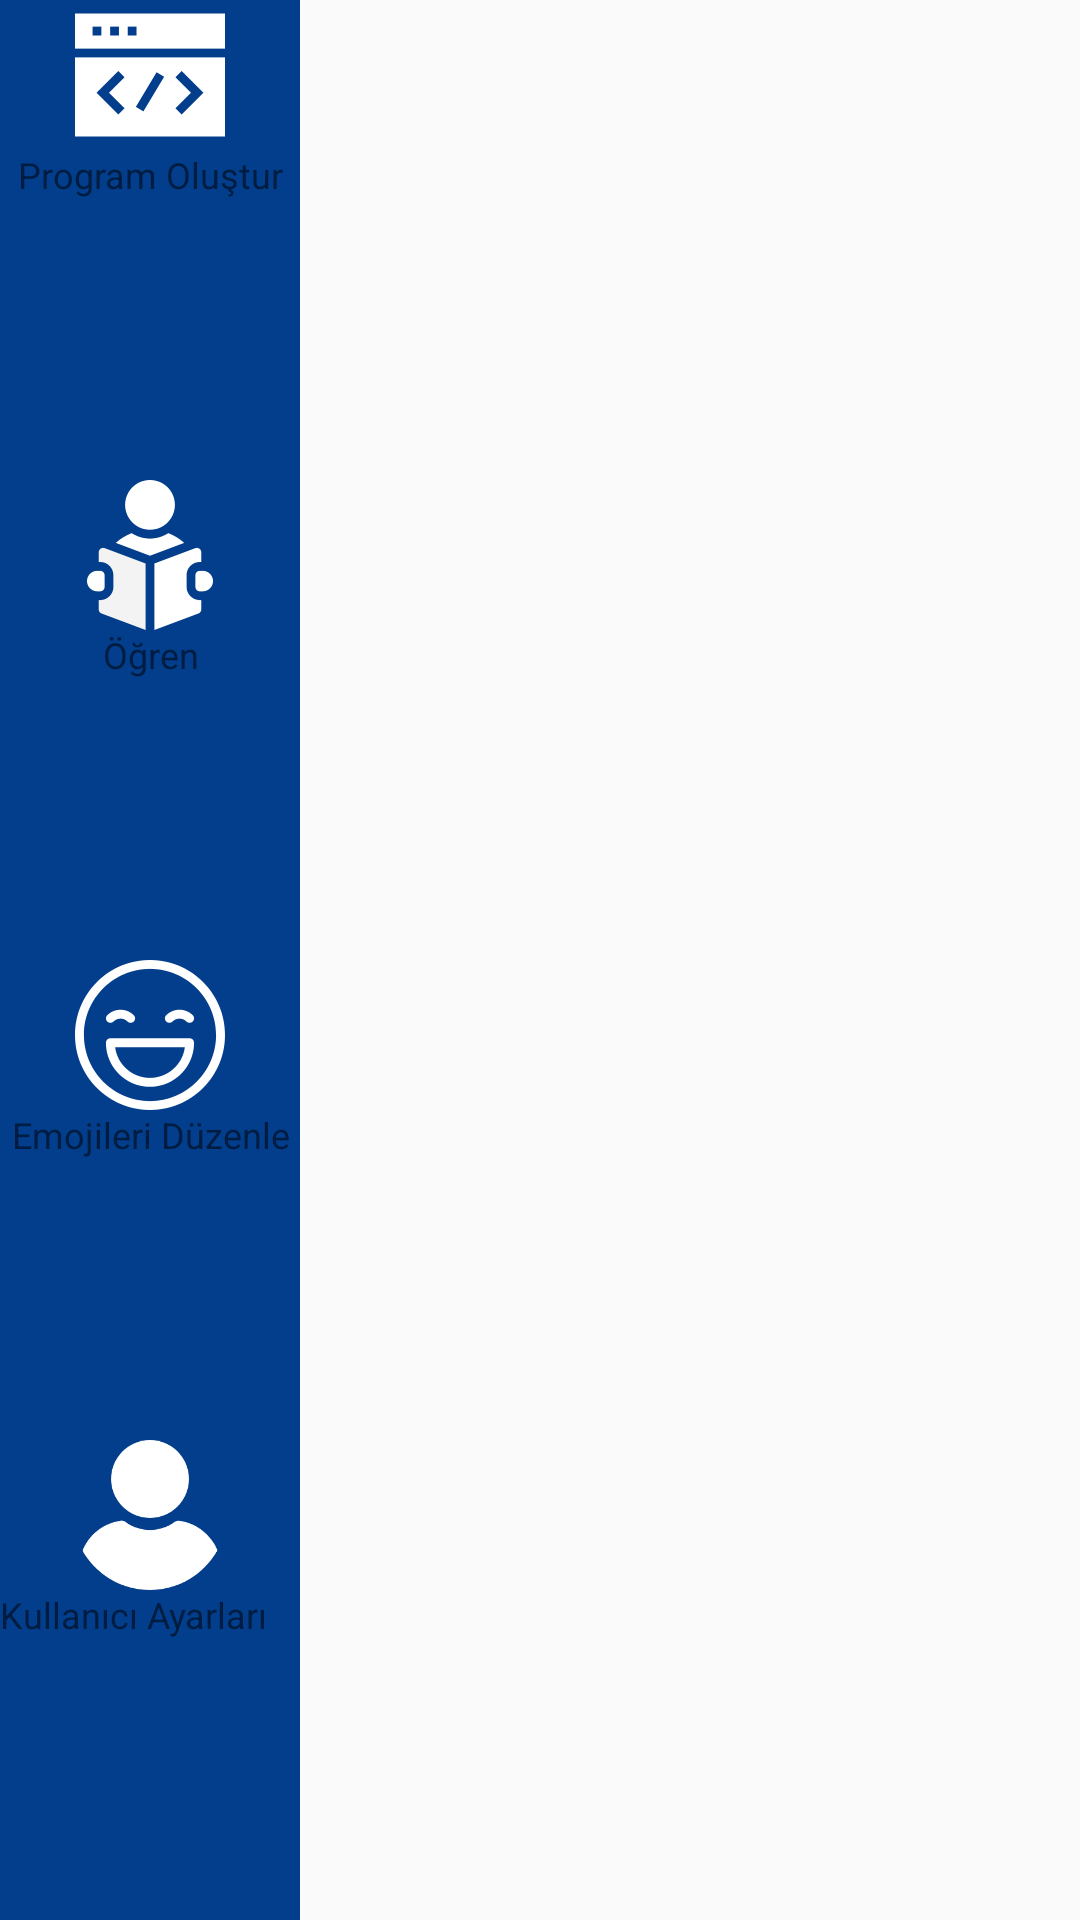

Where to tap for icons on this 1080*1920 app screen, as point (x, y):
coding: point (150, 75)
happy: point (150, 1035)
